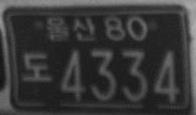0: (126, 15, 147, 41)
3: (90, 48, 116, 102), (121, 49, 147, 102)
4: (153, 49, 180, 103), (60, 48, 87, 100)
8: (103, 15, 125, 40)
도: (23, 52, 52, 82)
울산_O: (46, 16, 96, 41)
